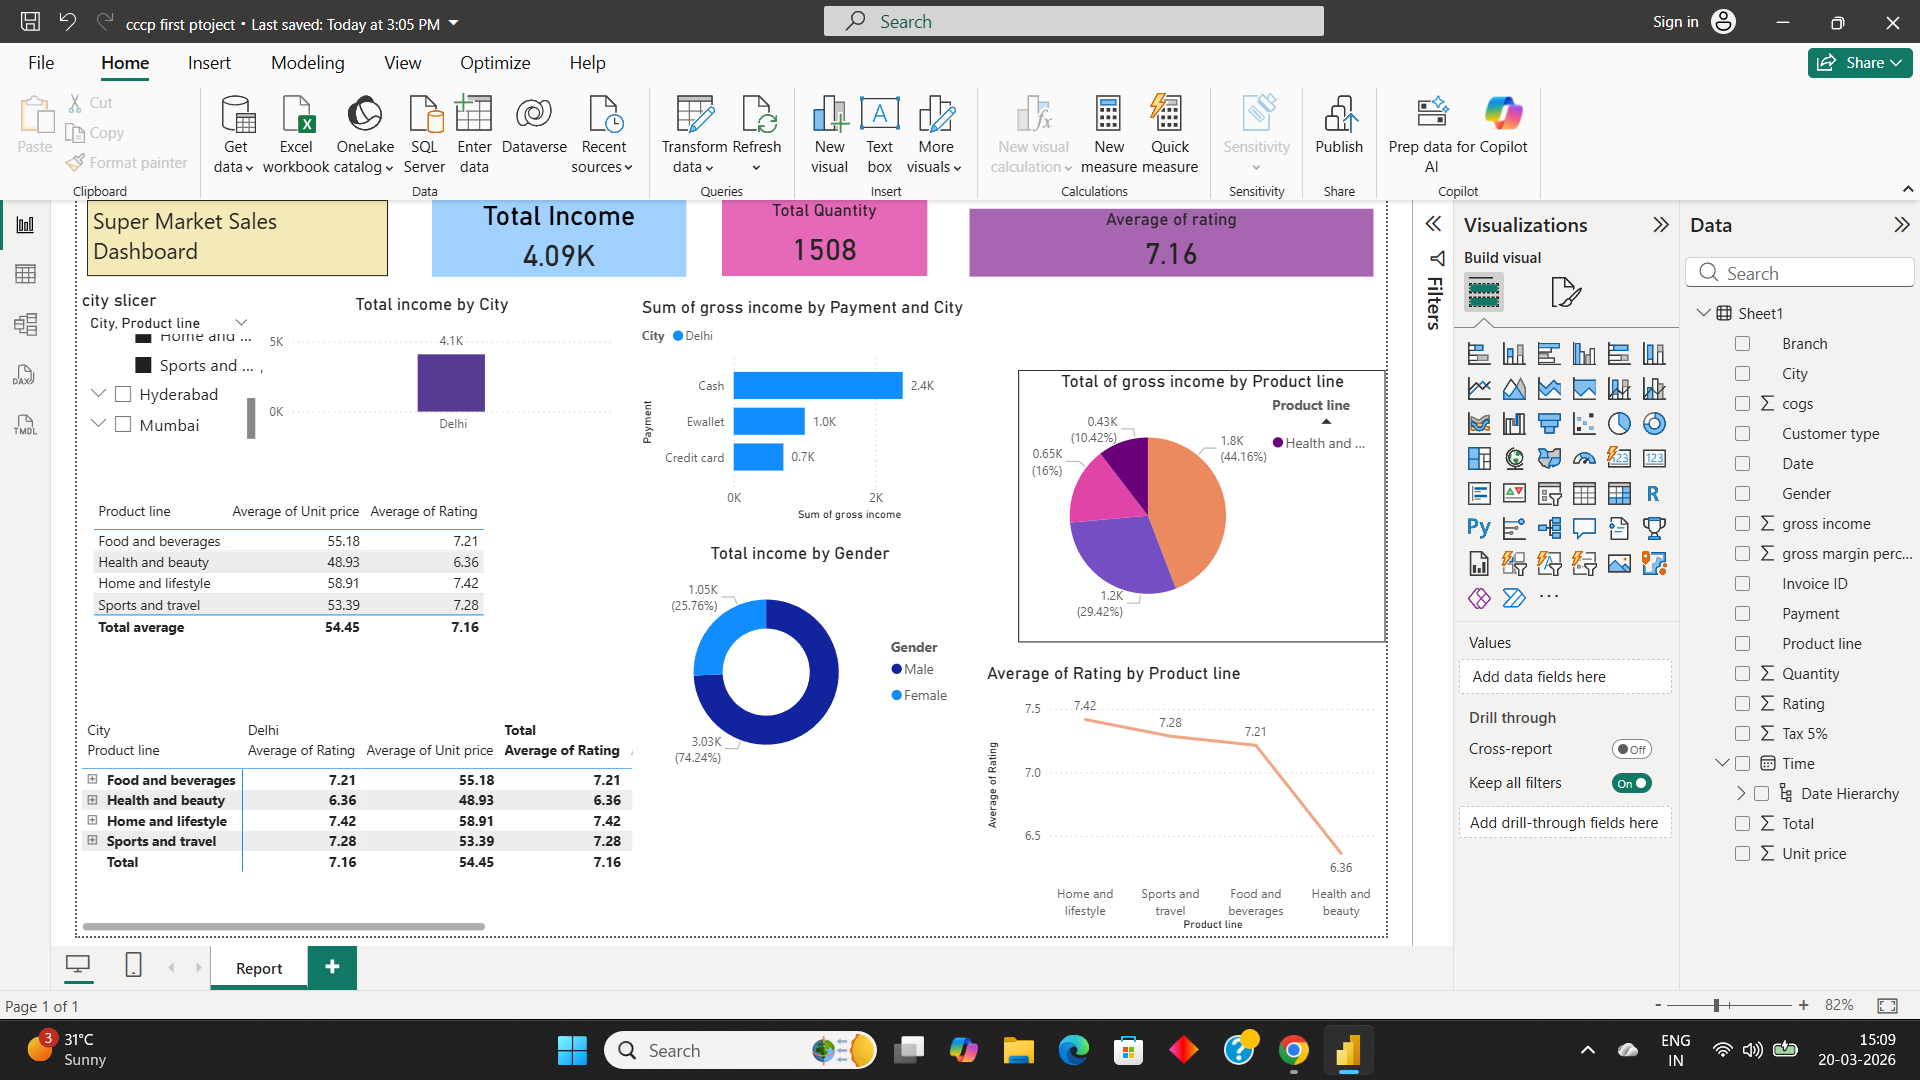

The page's visual inventory and layout, read from the dashboard file:
{"tool":"powerbi","page":{"name":"Report ","canvas":[1280,720],"ordinal":0},"visuals":[{"type":"textbox","box":[9.8,0,294.7,74.6],"z":0},{"type":"card","title":"Total Income","fields":{"Values":["Sum(Sheet1.gross income)"]},"box":[347.6,0,248.8,75],"z":1000},{"type":"card","title":"Total Quantity","fields":{"Values":["Sum(Sheet1.Quantity)"]},"box":[631,0,200.5,74.6],"z":2000},{"type":"card","title":"Average of rating","fields":{"Values":["Avg(Sheet1.Rating)"]},"box":[873.1,8.6,395,66],"z":3000},{"type":"columnChart","title":"Total  income by City","fields":{"Category":["Sheet1.City"],"Y":["Sum(Sheet1.gross income)"]},"box":[165.1,91.7,364.4,145.5],"z":4000},{"type":"clusteredBarChart","fields":{"Category":["Sheet1.Payment"],"Y":["Sum(Sheet1.gross income)"],"Series":["Sheet1.City"]},"box":[547.8,94.2,333.8,225],"z":5000},{"type":"lineChart","fields":{"Category":["Sheet1.Product line"],"Y":["Avg(Sheet1.Rating)"]},"box":[885.3,452.4,395,267.8],"z":6000},{"type":"pieChart","title":"Total of gross income by Product line","fields":{"Category":["Sheet1.Product line"],"Y":["Sum(Sheet1.gross income)"]},"box":[920.8,166.3,359.5,266.6],"z":6002},{"type":"donutChart","title":"Total income by Gender","fields":{"Category":["Sheet1.Gender"],"Y":["Sum(Sheet1.gross income)"]},"box":[547.8,335.1,319.2,234.8],"z":6003},{"type":"tableEx","fields":{"Values":["Sheet1.Product line","Avg(Sheet1.Unit price)","Avg(Sheet1.Rating)"]},"box":[0,225,410.9,188.3],"z":6004},{"type":"pivotTable","fields":{"Rows":["Sheet1.Product line","Sheet1.Gender"],"Columns":["Sheet1.City"],"Values":["Avg(Sheet1.Rating)","Avg(Sheet1.Unit price)"]},"box":[0,502.6,547.8,217.7],"z":6005},{"type":"slicer","title":"city slicer ","fields":{"Values":["Sheet1.City"]},"box":[0,88,179.8,150.4],"z":6006}]}

Visuals, with their boxes on the page's 1280x720 design canvas (x1, y1, x2, y2). These are canvas units, not pixel positions in the 1920x1080 screenshot, which may show the page scaled, cropped or inside an application window:
textbox: bbox=[10, 0, 304, 75]
"Total Income" card: bbox=[348, 0, 596, 75]
"Total Quantity" card: bbox=[631, 0, 832, 75]
"Average of rating" card: bbox=[873, 9, 1268, 75]
"Total  income by City" columnChart: bbox=[165, 92, 530, 237]
clusteredBarChart - Sheet1.Payment x Sum(Sheet1.gross income): bbox=[548, 94, 882, 319]
lineChart - Sheet1.Product line x Avg(Sheet1.Rating): bbox=[885, 452, 1280, 720]
"Total of gross income by Product line" pieChart: bbox=[921, 166, 1280, 433]
"Total income by Gender" donutChart: bbox=[548, 335, 867, 570]
tableEx - Sheet1.Product line x Avg(Sheet1.Unit price): bbox=[0, 225, 411, 413]
pivotTable - Sheet1.Product line x Sheet1.Gender: bbox=[0, 503, 548, 720]
"city slicer " slicer: bbox=[0, 88, 180, 238]
